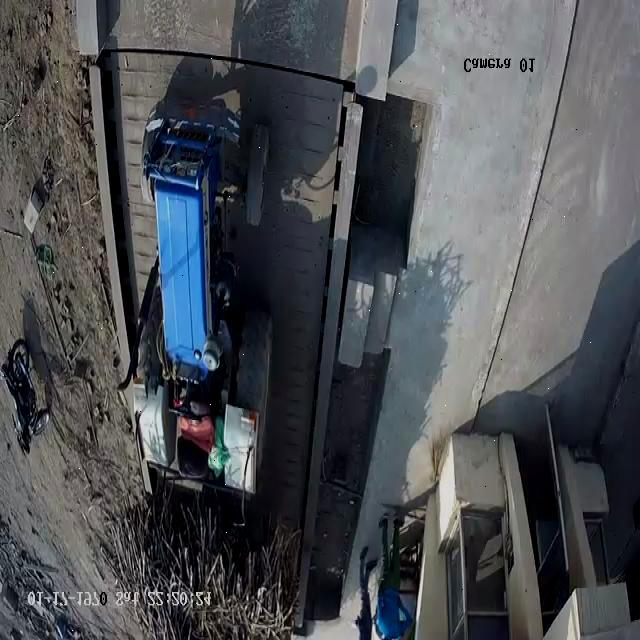Tratores - v5 YOLO V8L 2024-11-13: (126, 113, 274, 492)
